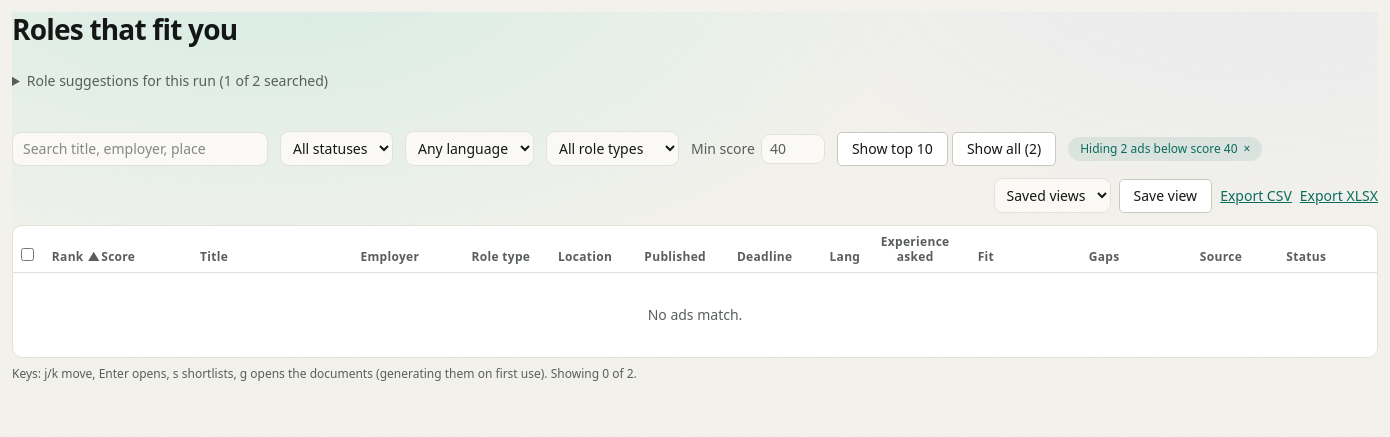
run page › discover roles › keeps the suggestions after the search, with what each role found, and tags every ad with its role
Expected: the heading "Role suggestions for this run (1 of 2 searched)" is shown, [27, 71, 328, 90]
Expected: the text "No ads match." is shown, [13, 272, 1377, 357]
Clear the number field named "Minimum score" at x=793, y=148, box [761, 134, 825, 164]
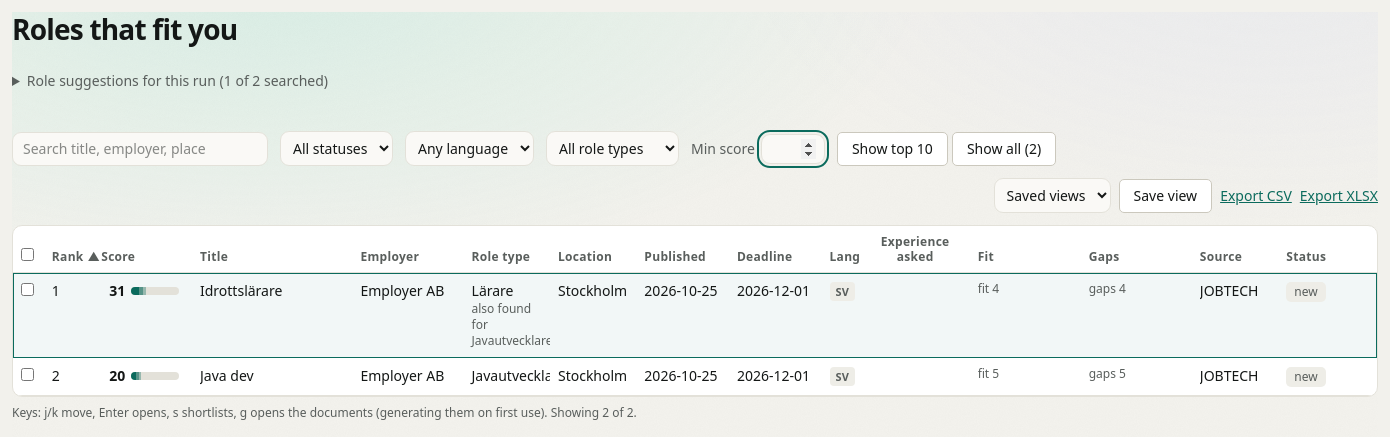
Expected: the text "Idrottslärare" is shown, [200, 281, 282, 300]
Expected: the text "also found for Javautvecklare" is shown, [472, 301, 542, 349]
Select "Javautvecklare" in the dropdown named "Filter by role type" at x=612, y=148, box [546, 131, 679, 166]
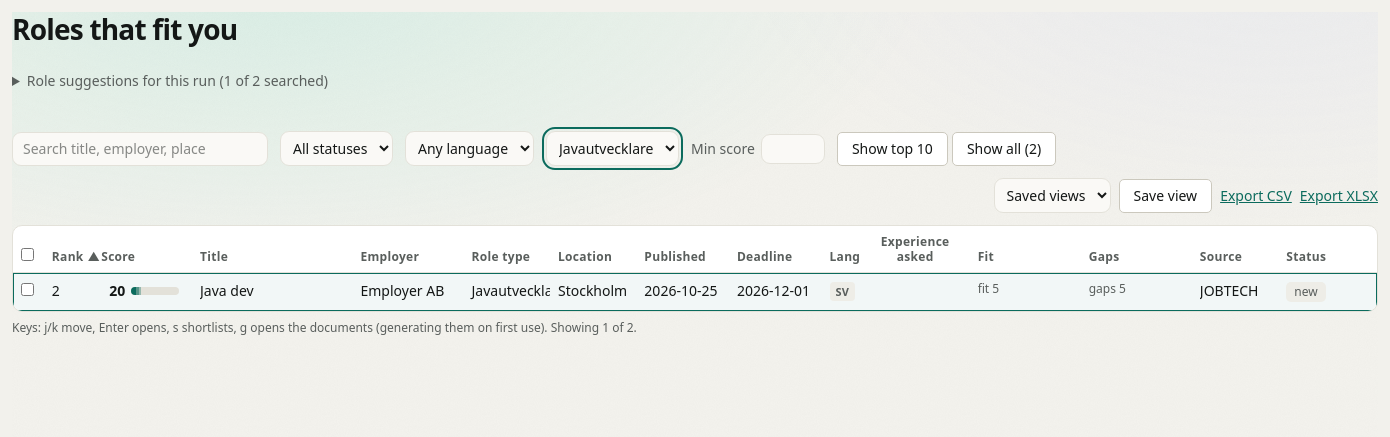
Expected: the text "Idrottslärare" is gone
